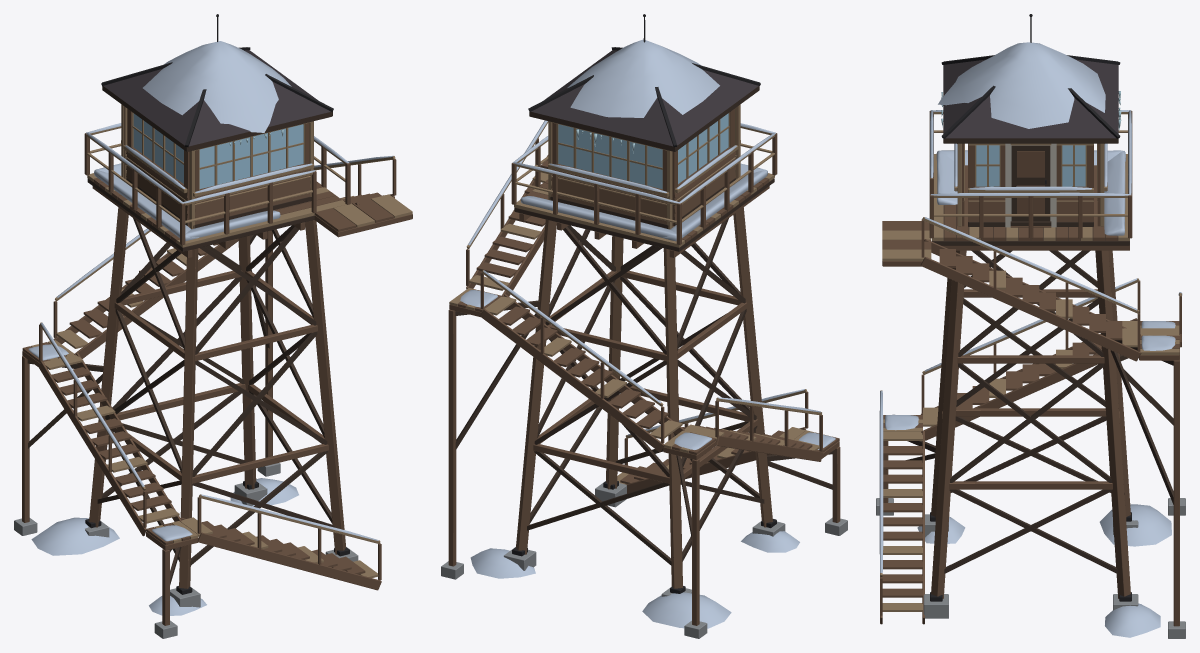
Rendered from lookout_tower.glb.
3 renders of one model, left to right at view 1: azimuth 30°, elevation 25°; view 2: azimuth 150°, elevation 25°; view 3: azimuth 270°, elevation 25°, orthographic. The views are drawn at different scales.
Visible parts, largest first — view 1: Floor0, Roof, Floor1, Walls1_S, Window_3, Walls1_W, Window_4; view 2: Floor0, Roof, Floor1, Walls1_N, Window_0, Walls1_W, Window_4; view 3: Floor0, Roof, Floor1, Walls1_E, Door_0, Window_1, Window_2, Walls1_N, Walls1_S.
Boxes of the visible parts, bbox=[...] form: Floor0: bbox=[14, 155, 412, 638]; Roof: bbox=[101, 14, 333, 151]; Floor1: bbox=[84, 123, 350, 257]; Walls1_S: bbox=[189, 121, 314, 228]; Window_3: bbox=[199, 124, 303, 188]; Walls1_W: bbox=[123, 109, 189, 225]; Window_4: bbox=[133, 113, 183, 183]; Floor0: bbox=[441, 120, 847, 638]; Roof: bbox=[528, 14, 760, 153]; Floor1: bbox=[511, 123, 777, 257]; Walls1_N: bbox=[548, 121, 672, 229]; Window_0: bbox=[558, 124, 662, 189]; Walls1_W: bbox=[672, 108, 738, 225]; Window_4: bbox=[678, 113, 728, 183]; Floor0: bbox=[876, 217, 1185, 638]; Roof: bbox=[938, 14, 1121, 143]; Floor1: bbox=[929, 110, 1132, 250]; Walls1_E: bbox=[968, 143, 1093, 228]; Door_0: bbox=[1011, 145, 1050, 221]; Window_1: bbox=[976, 145, 999, 186]; Window_2: bbox=[1062, 145, 1085, 186]; Walls1_N: bbox=[1097, 143, 1107, 226]; Walls1_S: bbox=[954, 143, 964, 226].
Size of what is drawn, in the model's own units: 6.9 by 13.86 by 6.88.
